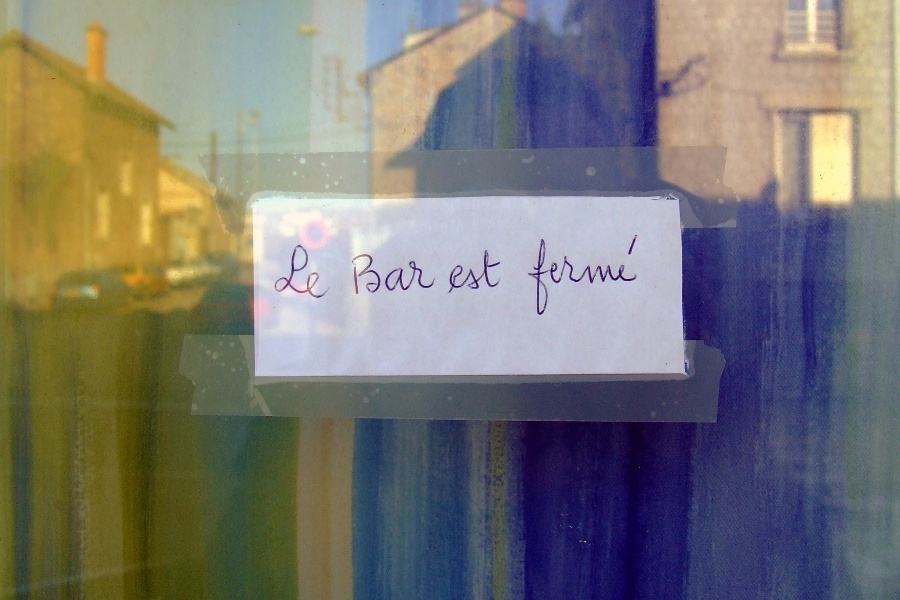text: (529, 235, 544, 316), (545, 235, 560, 316), (561, 235, 576, 316), (577, 235, 592, 316), (593, 235, 608, 316), (609, 235, 624, 316), (625, 235, 639, 316), (289, 244, 304, 301), (305, 244, 320, 301), (275, 244, 288, 301), (465, 249, 480, 295), (481, 249, 496, 295), (353, 253, 368, 295), (369, 253, 384, 295), (385, 253, 400, 295), (401, 253, 416, 295), (417, 253, 432, 295), (321, 244, 331, 301), (452, 249, 464, 295), (497, 249, 501, 295), (349, 253, 352, 295), (433, 253, 435, 295)
